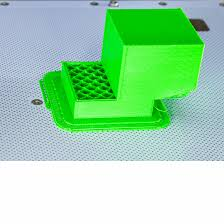fail: (134, 86, 203, 120)
